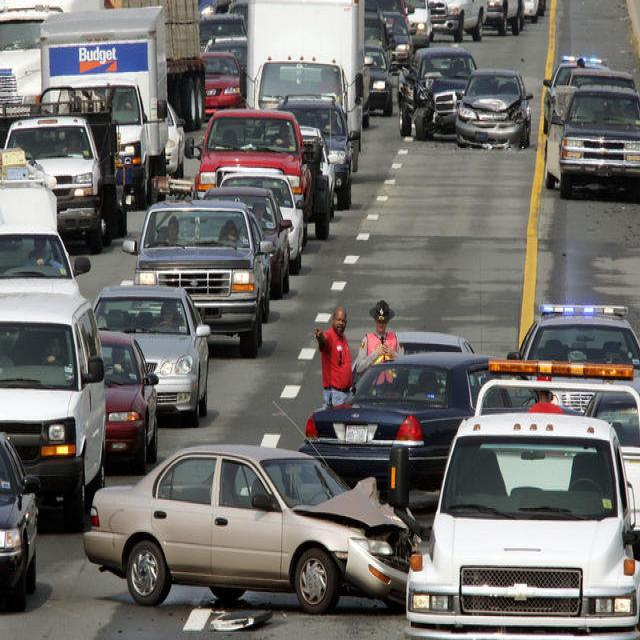accident: (86, 416, 640, 640), (400, 44, 534, 154)
non-accident: (1, 1, 267, 423), (142, 0, 364, 298), (83, 200, 270, 422), (3, 291, 156, 527), (195, 113, 307, 275), (542, 55, 640, 202)
